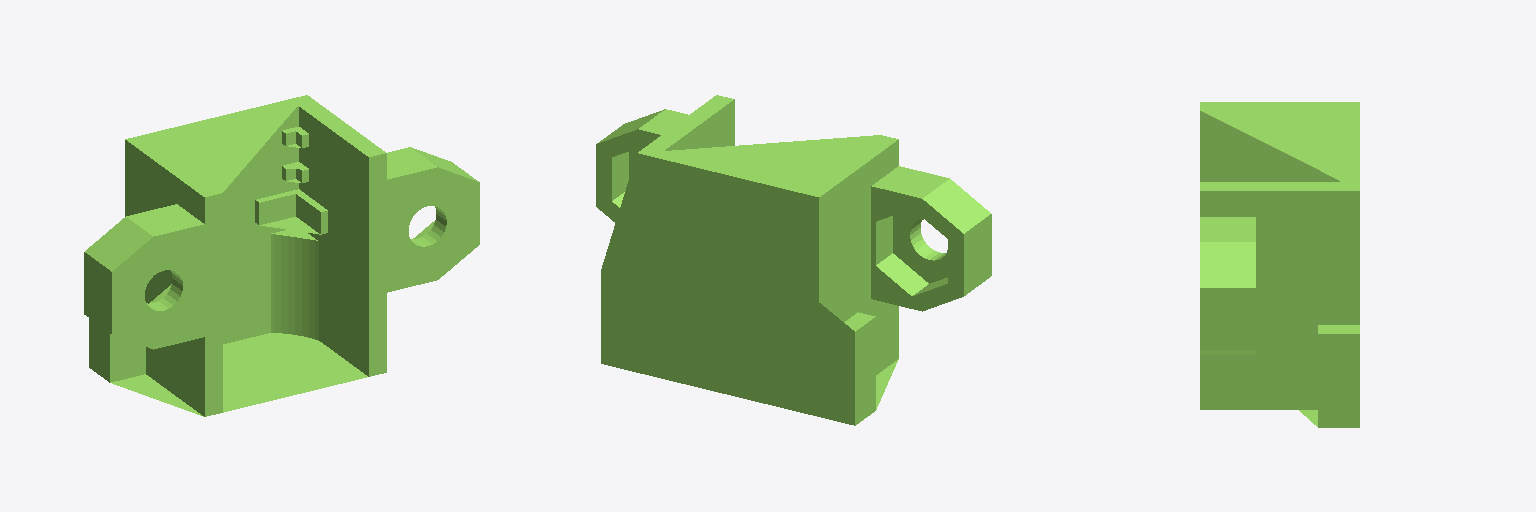
The model's file is RS_MotorCover_v1.obj.
The picture shows the model from 3 angles: view 1: azimuth 30°, elevation 25°; view 2: azimuth 150°, elevation 25°; view 3: azimuth 270°, elevation 25°; orthographic projection.
Visible parts, largest first — view 1: Mesh1 Group1 Model; view 2: Mesh1 Group1 Model; view 3: Mesh1 Group1 Model.
Boxes of the visible parts, <box> form: Mesh1 Group1 Model: <box>84,95,479,416</box>; Mesh1 Group1 Model: <box>596,95,991,425</box>; Mesh1 Group1 Model: <box>1200,102,1359,427</box>.
Bounding box in the file's own units: 30.66 × 17.5 × 11.5.